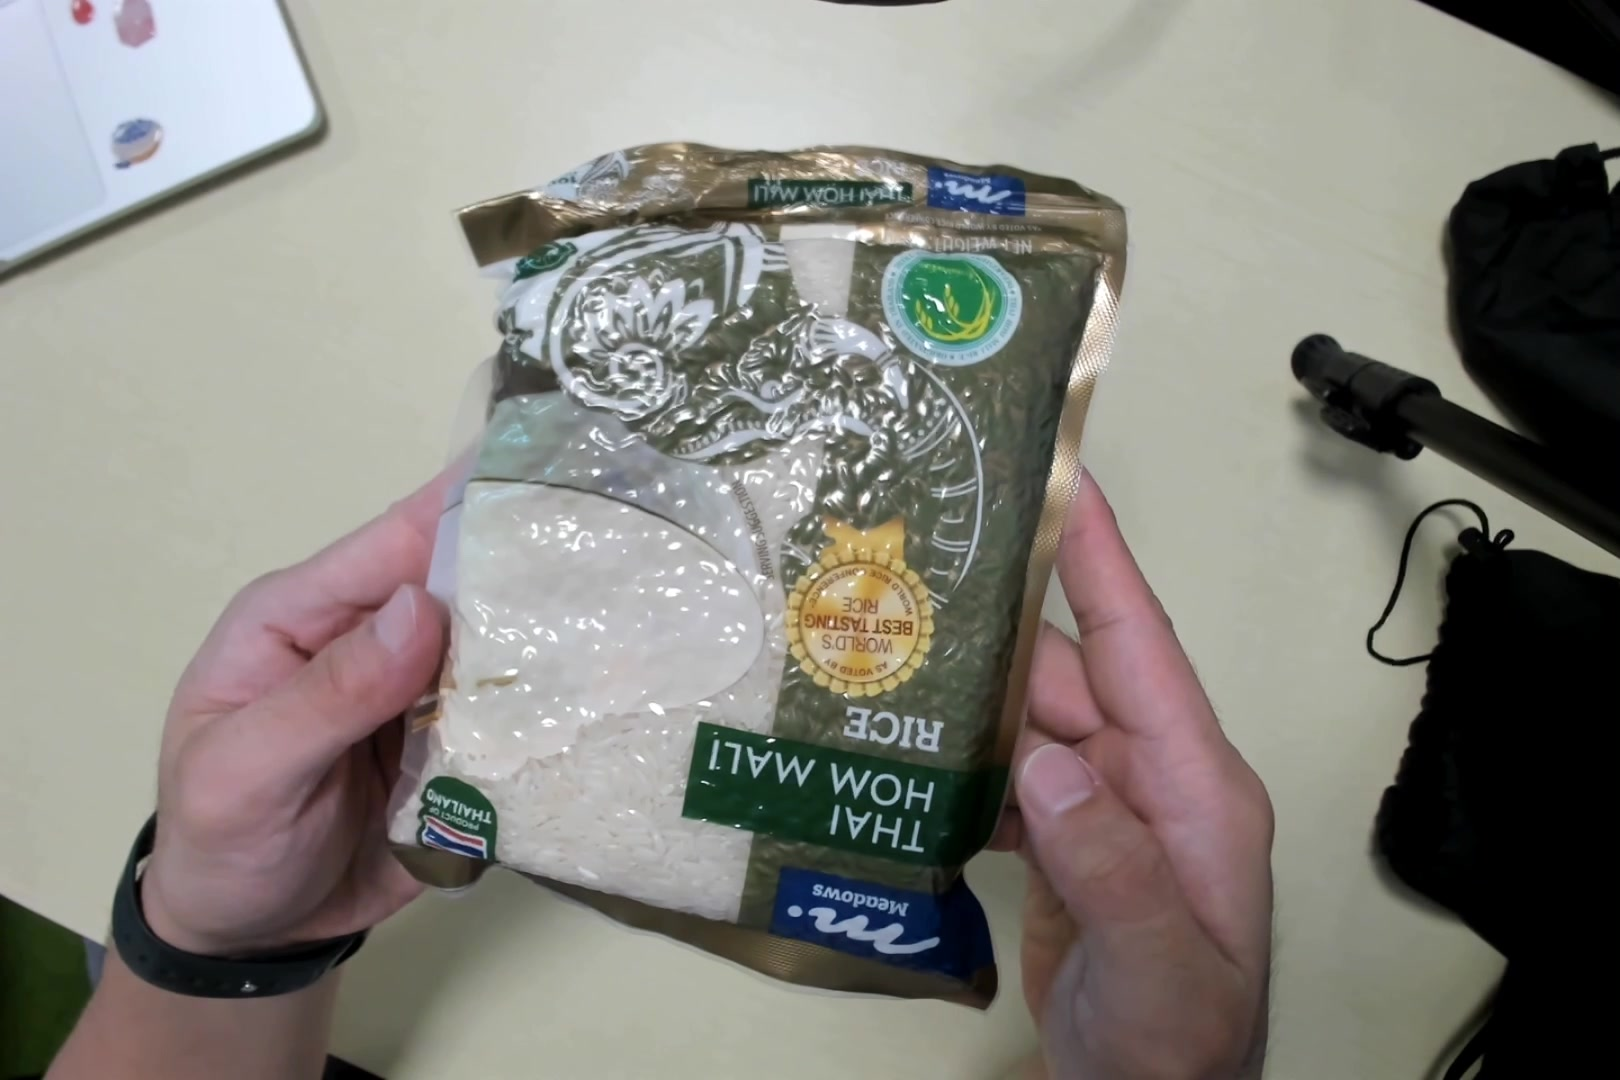Rice(White)_500-599g_NonHalal_NonHealthy: (403, 142, 1103, 1008)
